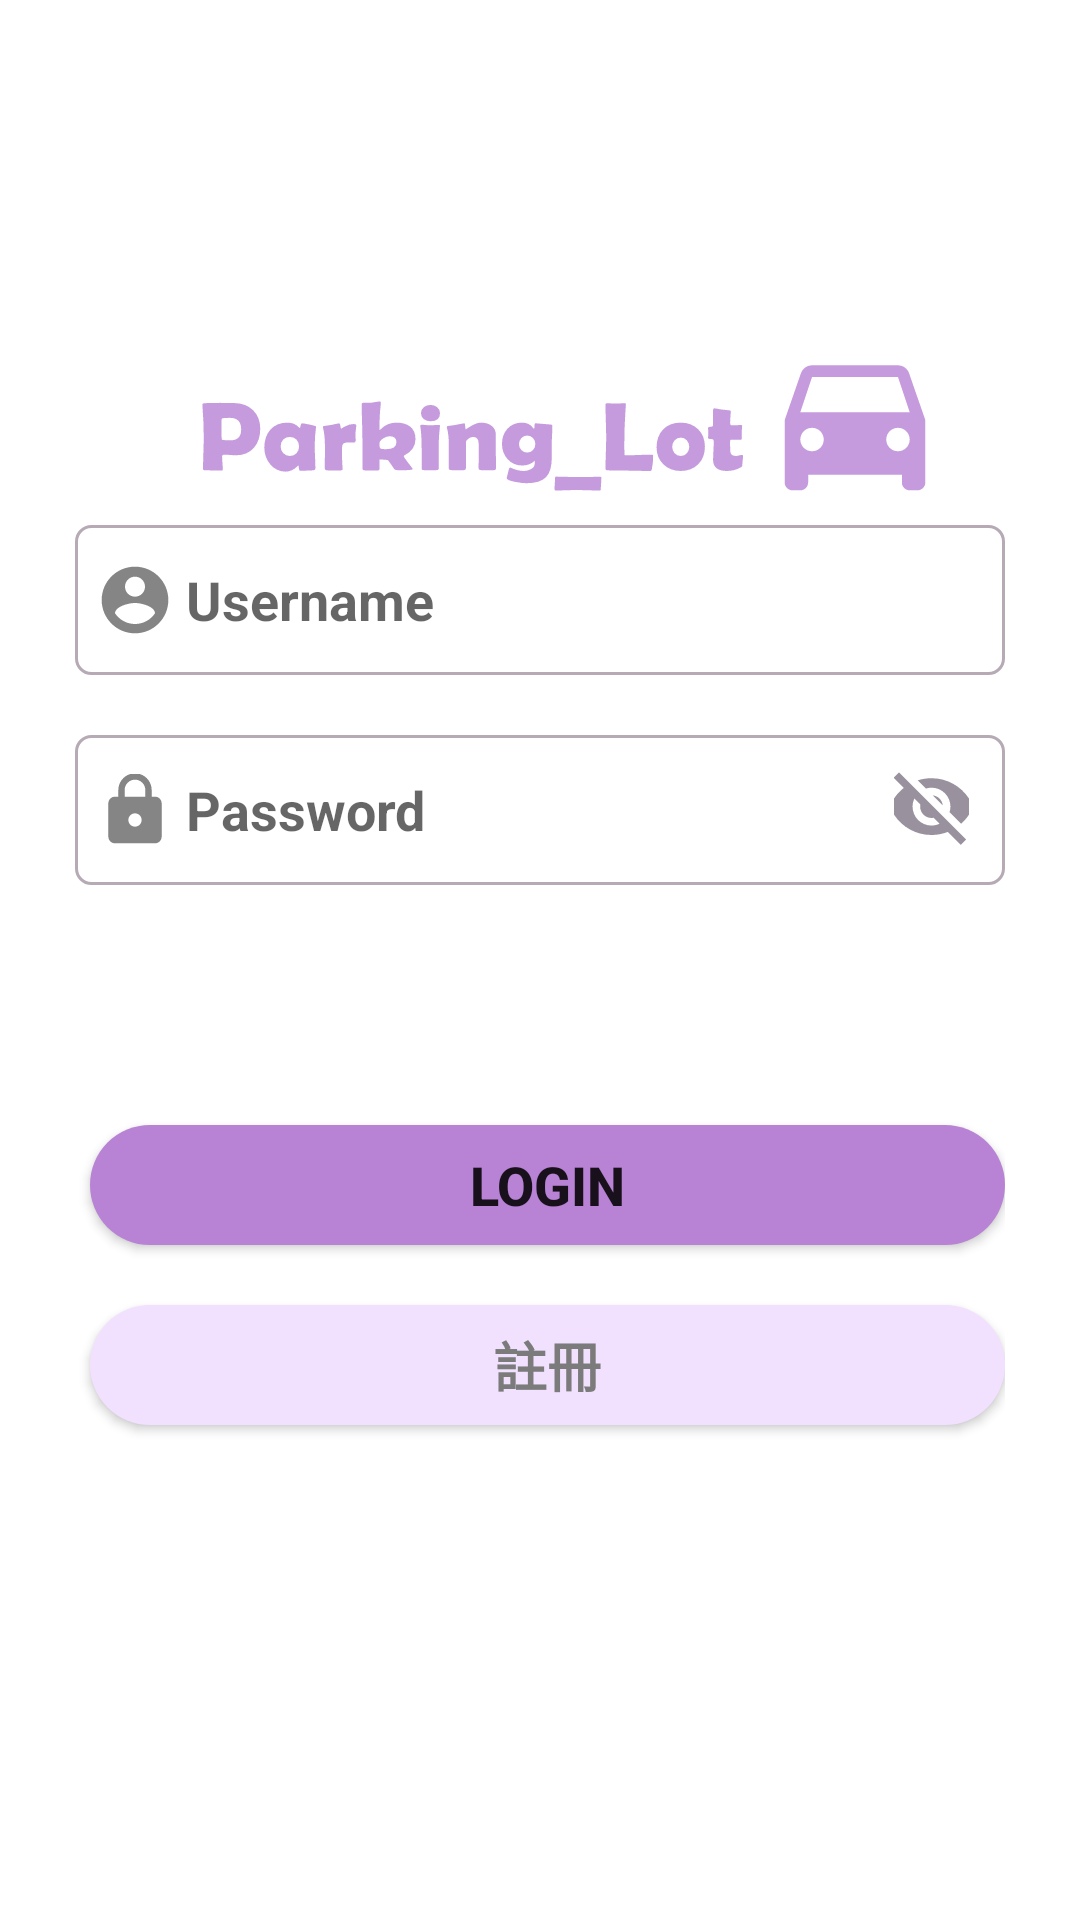

Named icons in this screenshot (1080px x 1920px) and their centers, [x,y]:
car pic: [855,428]
eyes pic: [931,809]
